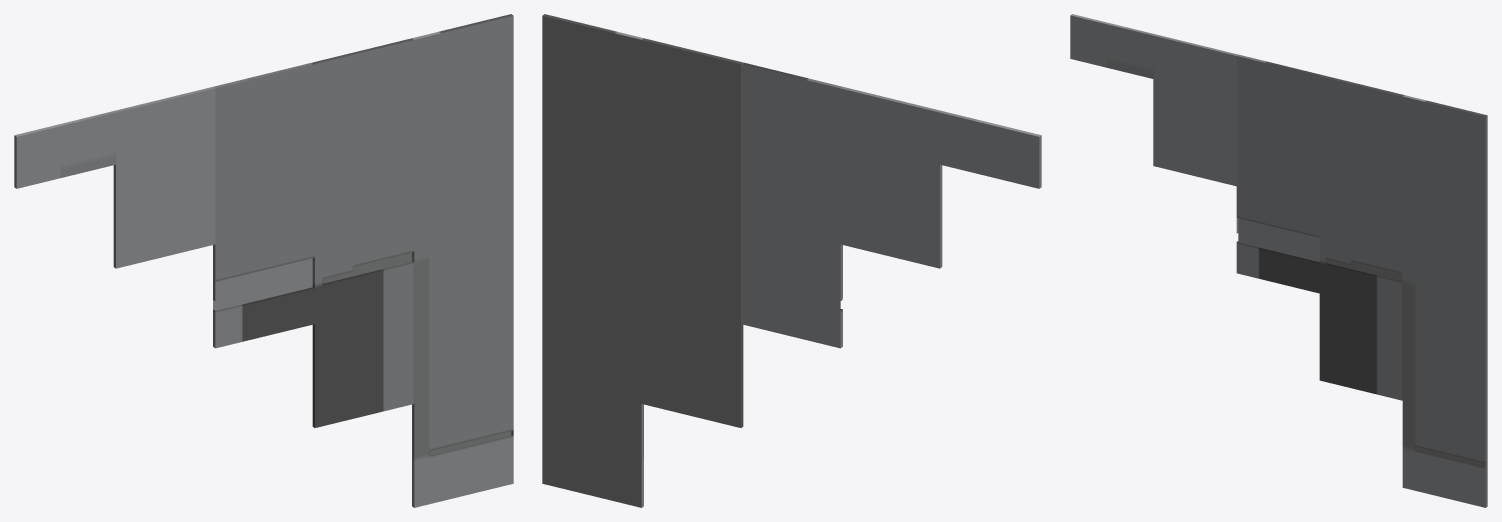
3 views of the same model, side by side, from view 1: azimuth 30°, elevation 25°; view 2: azimuth 150°, elevation 25°; view 3: azimuth 330°, elevation 25° (orthographic). The views are drawn at different scales.
Size of the model in its own units: 1 by 0.9 by 0.008.
